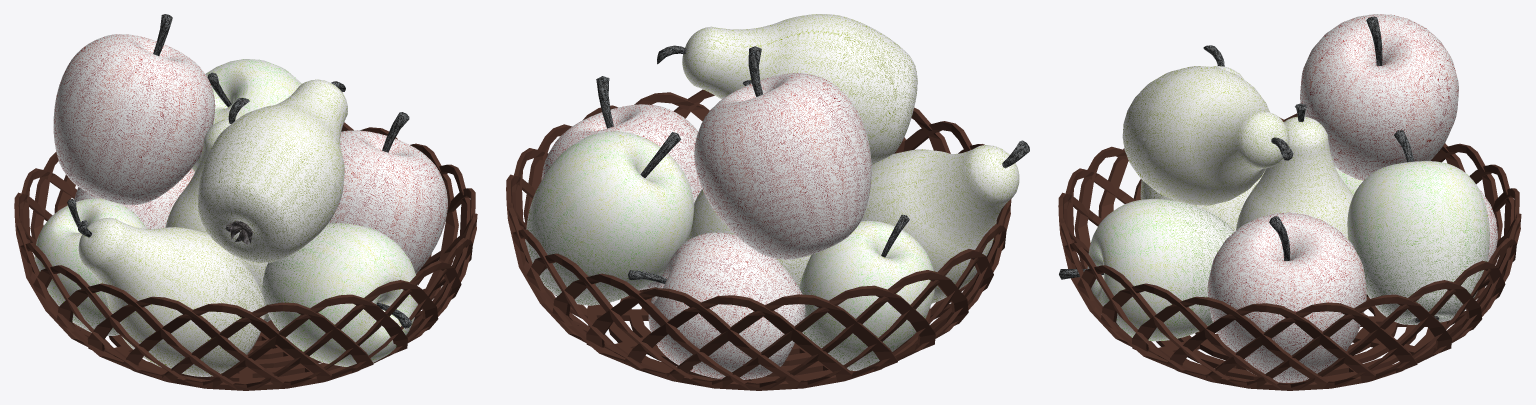
The model's file is Fruits.dae.
3 renders of one model, left to right at view 1: azimuth 30°, elevation 25°; view 2: azimuth 150°, elevation 25°; view 3: azimuth 270°, elevation 25°, orthographic. The views are drawn at different scales.
Visible parts, largest first — view 1: Component_1 (×3), Component_8 (×3), Component_9 (×3), Component_3 (×13), Component_4 (×14), spodok_misky, Component_7; view 2: Component_8 (×3), Component_1 (×3), Component_9 (×2), Component_3 (×14), Component_4 (×13), spodok_misky, Component_7 (×2), Component_11; view 3: Component_8 (×3), Component_9 (×2), Component_1 (×3), Component_3 (×14), Component_4 (×14), spodok_misky, Component_7 (×2).
Part boxes in pixels (x1,y1,x2,y2): Component_1 (×3): [78, 79, 347, 376]; Component_8 (×3): [53, 34, 447, 273]; Component_9 (×3): [34, 59, 417, 366]; Component_3 (×13): [14, 152, 461, 390]; Component_4 (×14): [29, 146, 477, 390]; spodok_misky: [104, 320, 359, 390]; Component_7: [382, 112, 409, 152]; Component_8 (×3): [541, 73, 871, 379]; Component_1 (×3): [682, 14, 1019, 303]; Component_9 (×2): [525, 131, 934, 370]; Component_3 (×14): [506, 121, 993, 390]; Component_4 (×13): [526, 92, 1011, 390]; spodok_misky: [587, 287, 930, 390]; Component_7 (×2): [596, 46, 762, 128]; Component_11: [640, 132, 680, 177]; Component_8 (×3): [1207, 14, 1497, 382]; Component_9 (×2): [1087, 161, 1489, 341]; Component_1 (×3): [1122, 66, 1353, 239]; Component_3 (×14): [1058, 148, 1505, 390]; Component_4 (×14): [1073, 146, 1521, 390]; spodok_misky: [1148, 296, 1447, 390]; Component_7 (×2): [1269, 16, 1382, 260].
Bounding box in the file's own units: 8.43 × 8.29 × 5.69.
